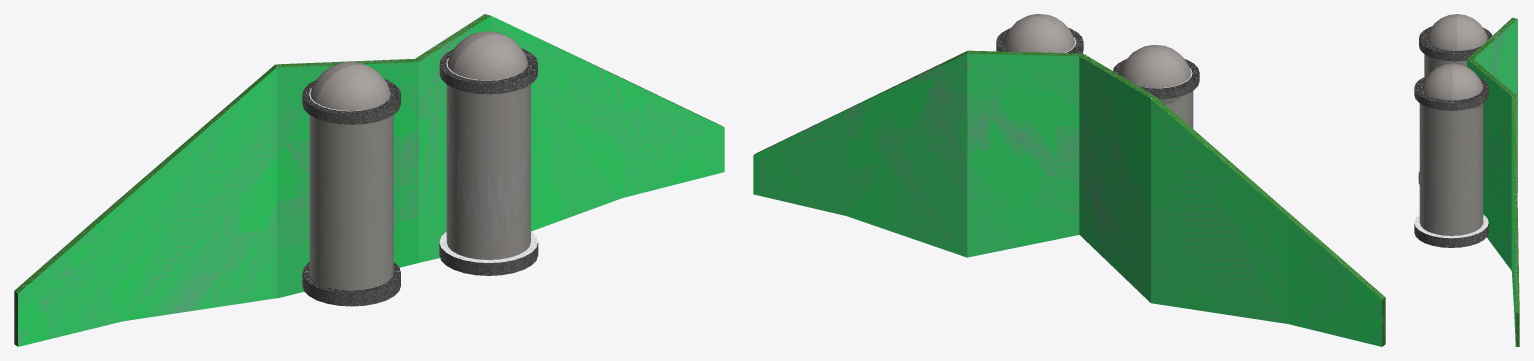
3 renders of one model, left to right at view 1: azimuth 30°, elevation 25°; view 2: azimuth 150°, elevation 25°; view 3: azimuth 270°, elevation 25°, orthographic. The views are drawn at different scales.
Visible parts, largest first — view 1: SketchUp (×16); view 2: SketchUp (×10); view 3: SketchUp (×17).
Part boxes in pixels (bbox=[...]): SketchUp (×16): bbox=[14, 14, 724, 346]; SketchUp (×10): bbox=[753, 14, 1385, 346]; SketchUp (×17): bbox=[1414, 14, 1519, 346].
Bounding box in the file's own units: 116 × 19.82 × 39.18.
